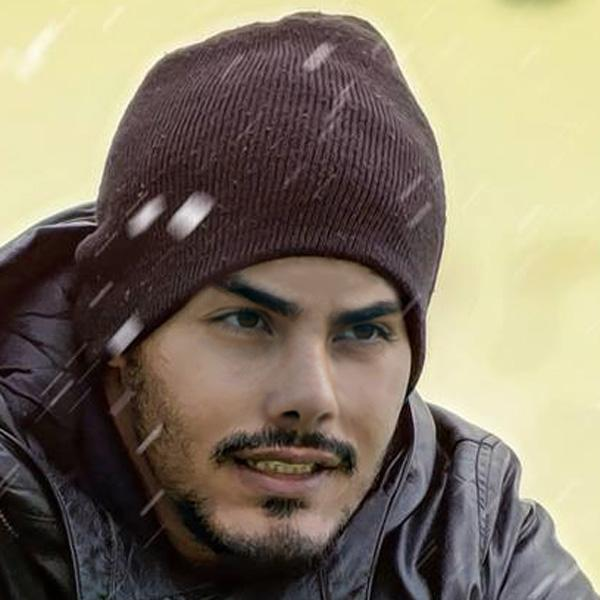Eyes: (199, 293, 278, 349), (326, 311, 395, 358)
